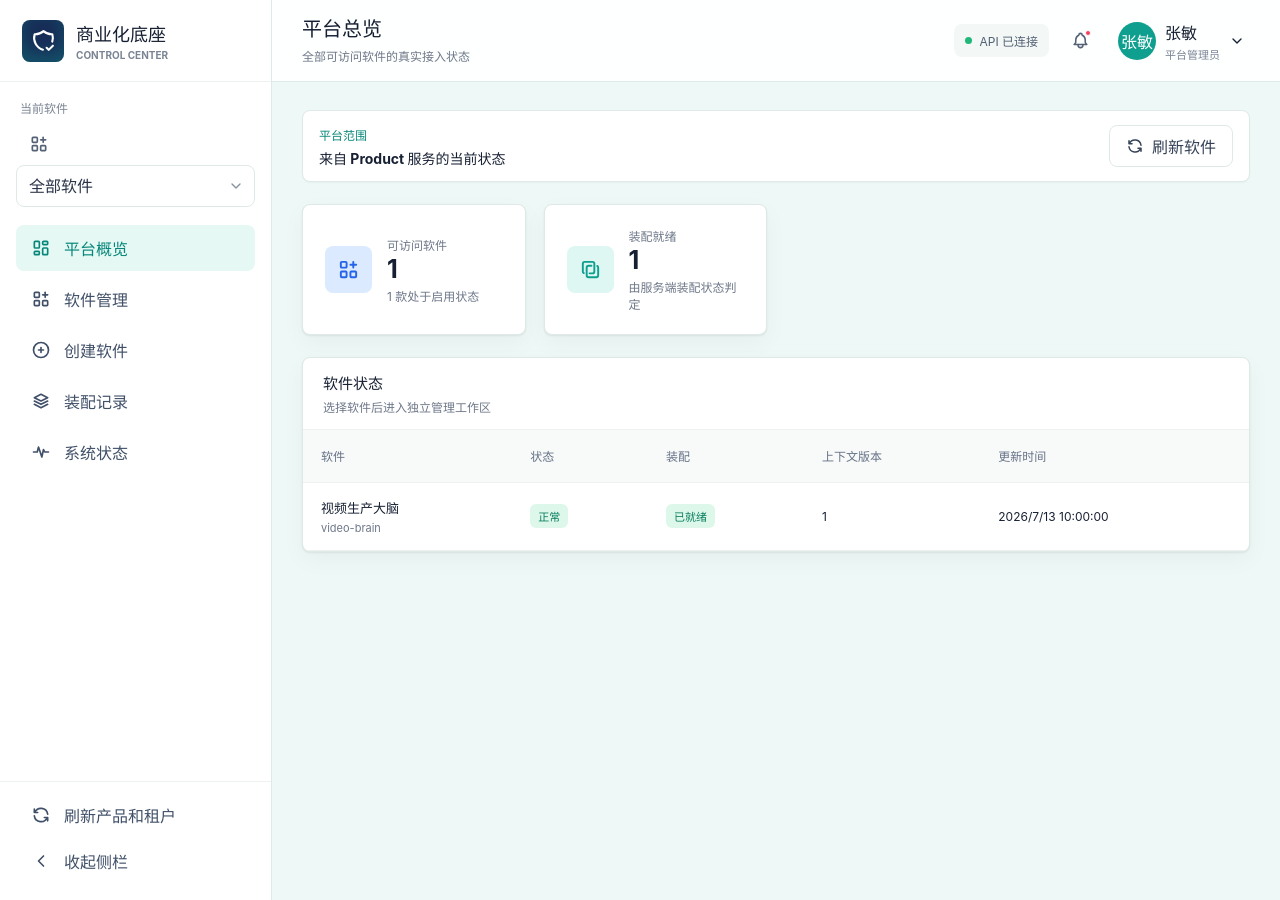
Test: 管理员会话保护 › 退出失败保留当前会话，重试成功后回到登录页
expect the heading "平台总览" is shown: met, box [302,17,382,41]
Click the button with aria-label "张敏，平台管理员" at (1182, 40), box [1111,14,1252,66]
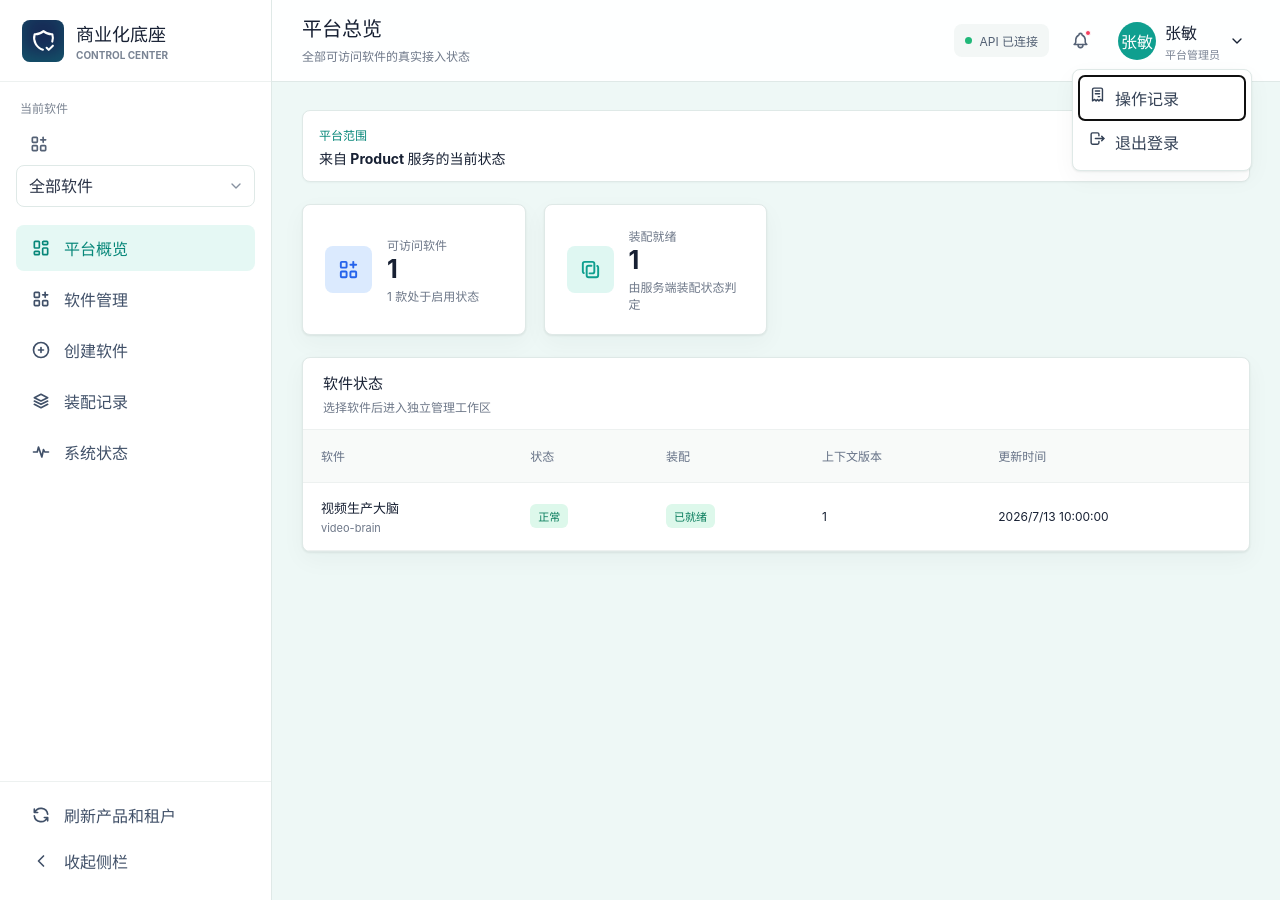
Click the menu item "退出登录" at (1162, 142), box [1079,120,1245,164]
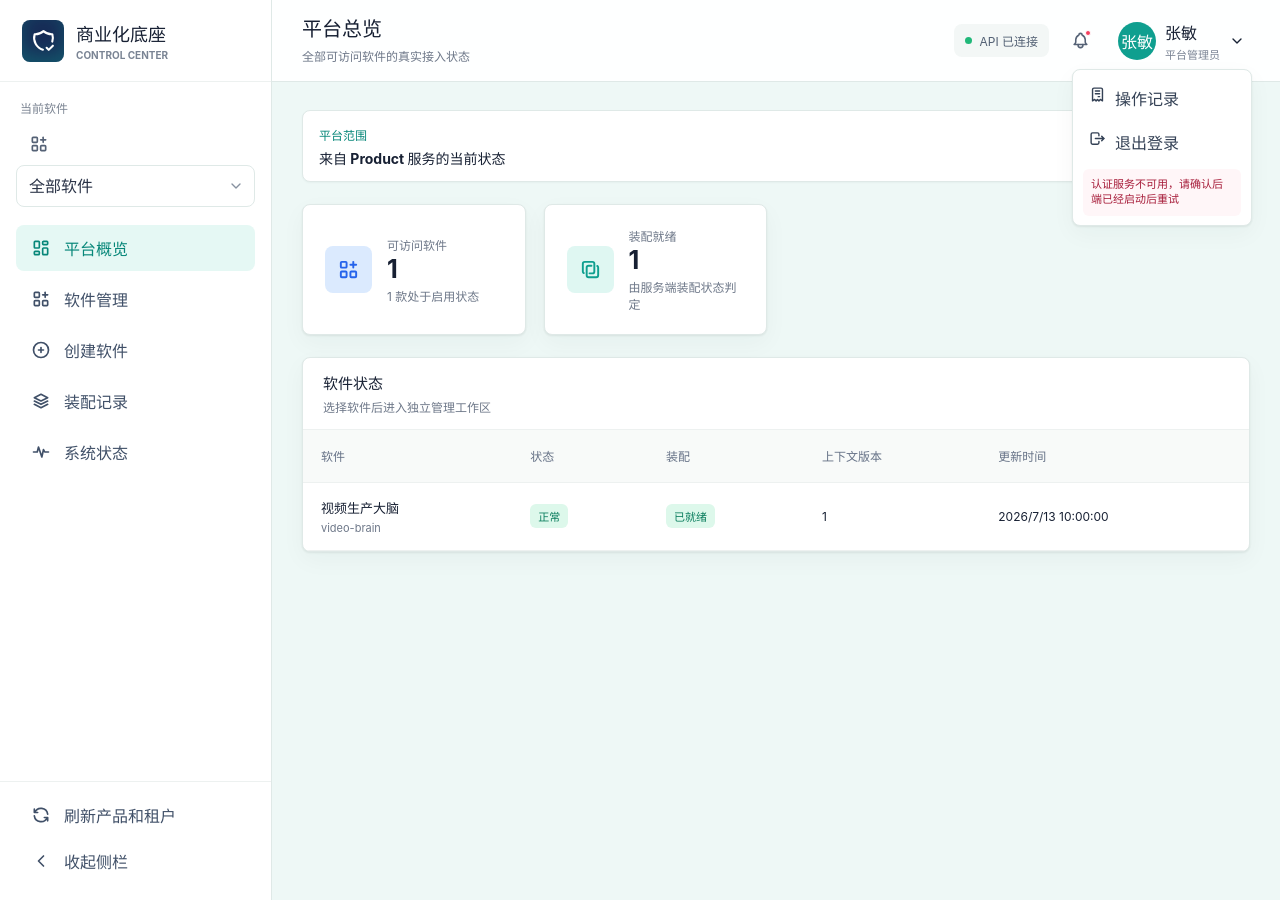
expect the heading "平台总览" is shown: met, box [302,17,382,41]
expect the message shows "认证服务不可用": met, box [1091,176,1223,206]
Click the menu item "退出登录" at (1162, 142), box [1079,120,1245,164]
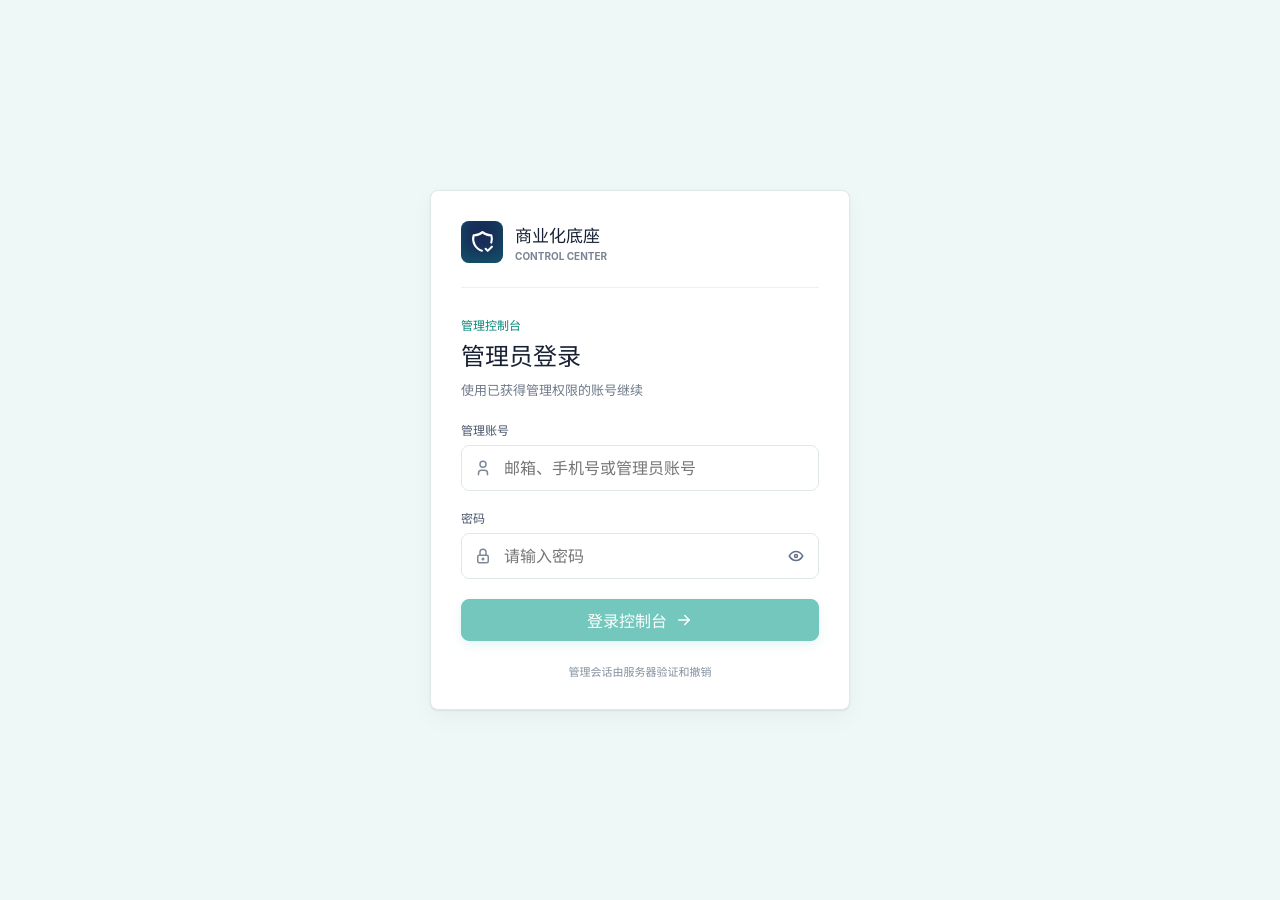
expect the heading "管理员登录" is shown: met, box [461,342,581,371]
